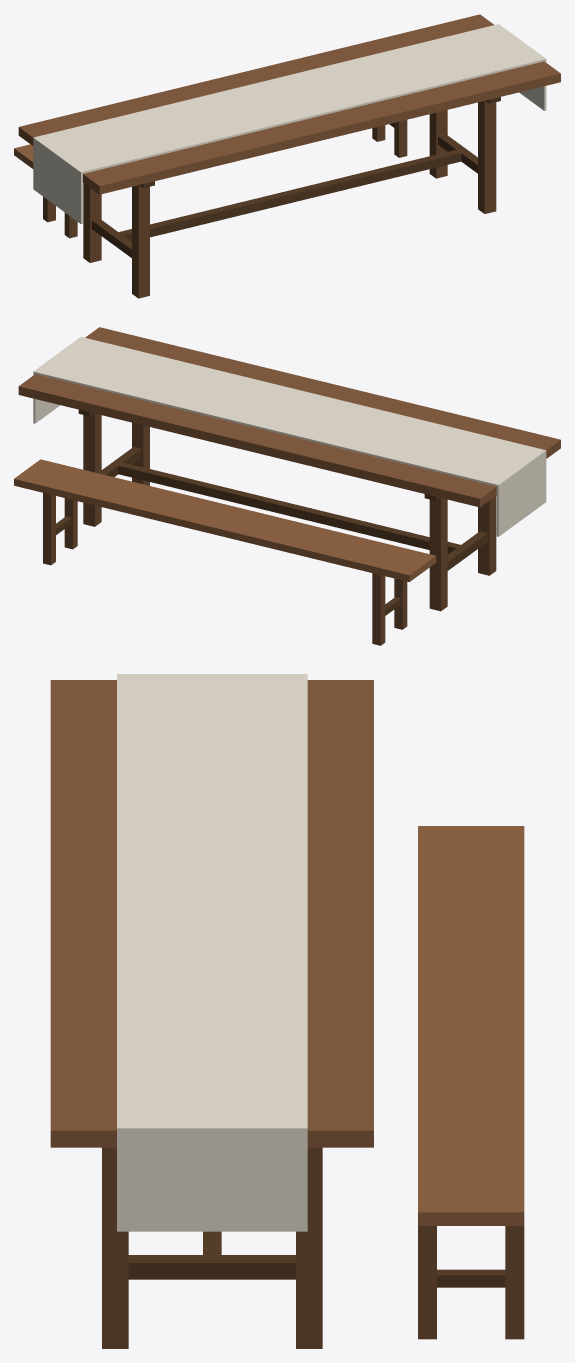
The model's file is hall-high-table.glb.
The picture shows the model from 3 angles, top to bottom: view 1: azimuth 30°, elevation 25°; view 2: azimuth 150°, elevation 25°; view 3: azimuth 270°, elevation 25°; orthographic projection. The views are drawn at different scales.
Parts seen in each view (by area): view 1: hall-high-table; view 2: hall-high-table; view 3: hall-high-table.
Boxes of the visible parts, left/top/right/bottom form: hall-high-table: left=14, top=14, right=560, bottom=298; hall-high-table: left=14, top=327, right=560, bottom=645; hall-high-table: left=50, top=674, right=524, bottom=1348.
Bounding box in the file's own units: 2.82 × 0.7919 × 1.24.
Materials: 1 (1 with a texture image).
